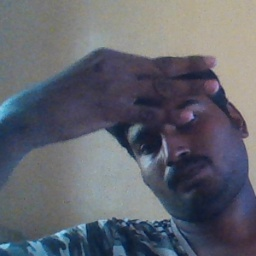K: (27, 45, 221, 145)
